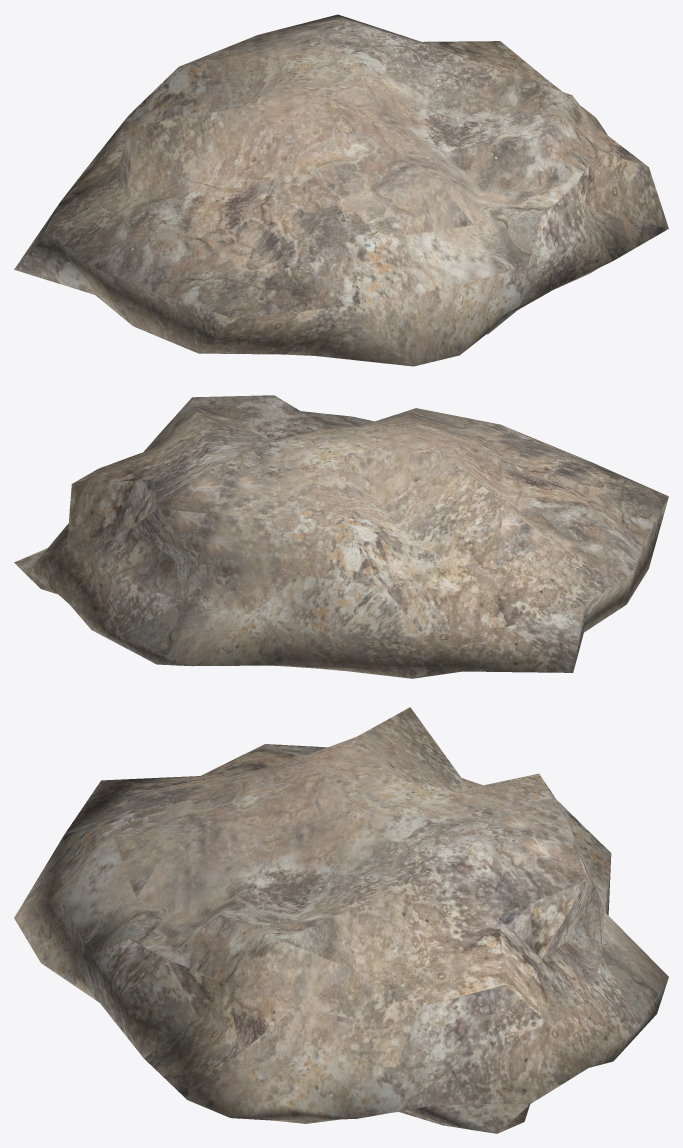
File: n-rockA.glb
The picture shows the model from 3 angles, top to bottom: view 1: azimuth 30°, elevation 25°; view 2: azimuth 150°, elevation 25°; view 3: azimuth 270°, elevation 25°; orthographic projection. The views are drawn at different scales.
Visible parts, largest first — view 1: rock; view 2: rock; view 3: rock.
Part boxes in pixels (box(x1,y1,x2,y2)): rock: box(14, 14, 668, 366); rock: box(14, 395, 668, 678); rock: box(14, 707, 668, 1133).
Bounding box in the file's own units: 3.25 × 1.06 × 2.88.
Materials: 1 (1 with a texture image).
